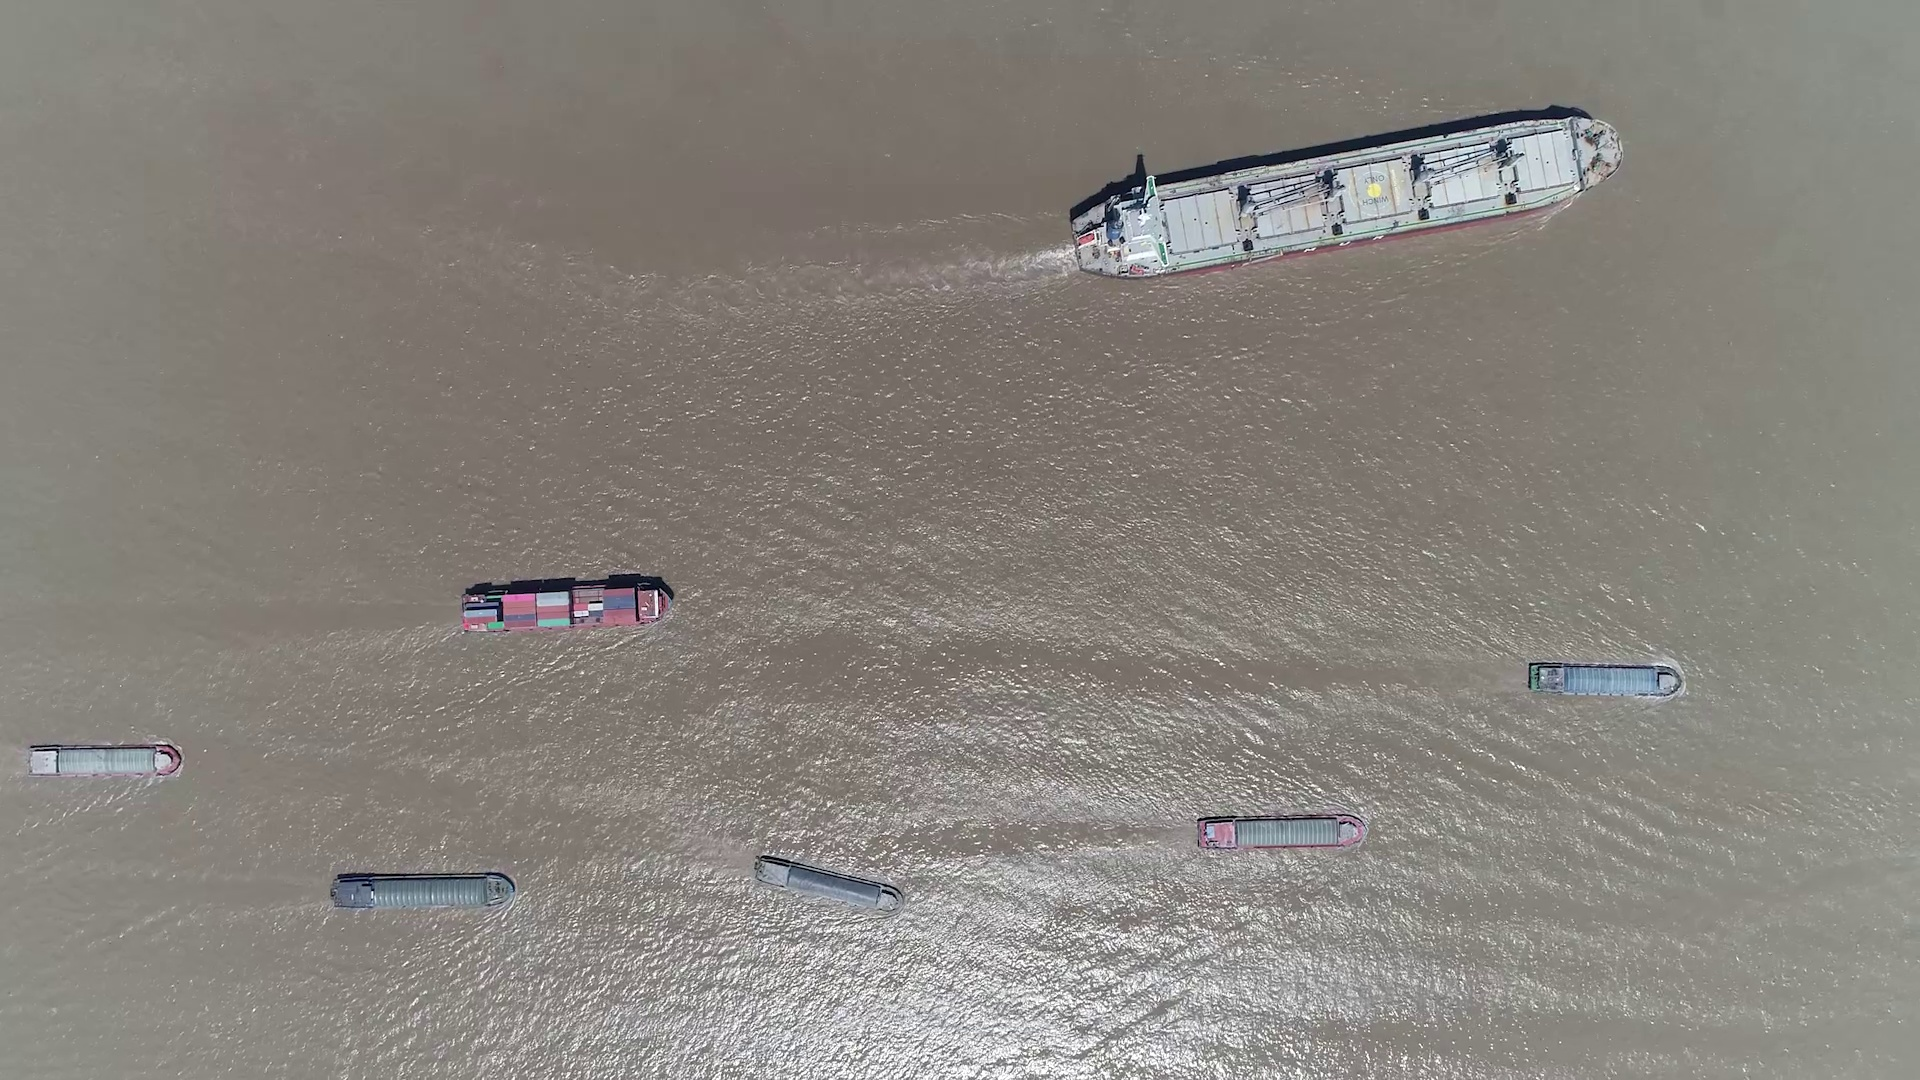ship: (1069, 117, 1619, 274), (462, 579, 673, 632), (753, 855, 902, 911), (330, 872, 516, 910), (1197, 814, 1365, 851), (1528, 662, 1683, 699), (26, 744, 181, 778)
